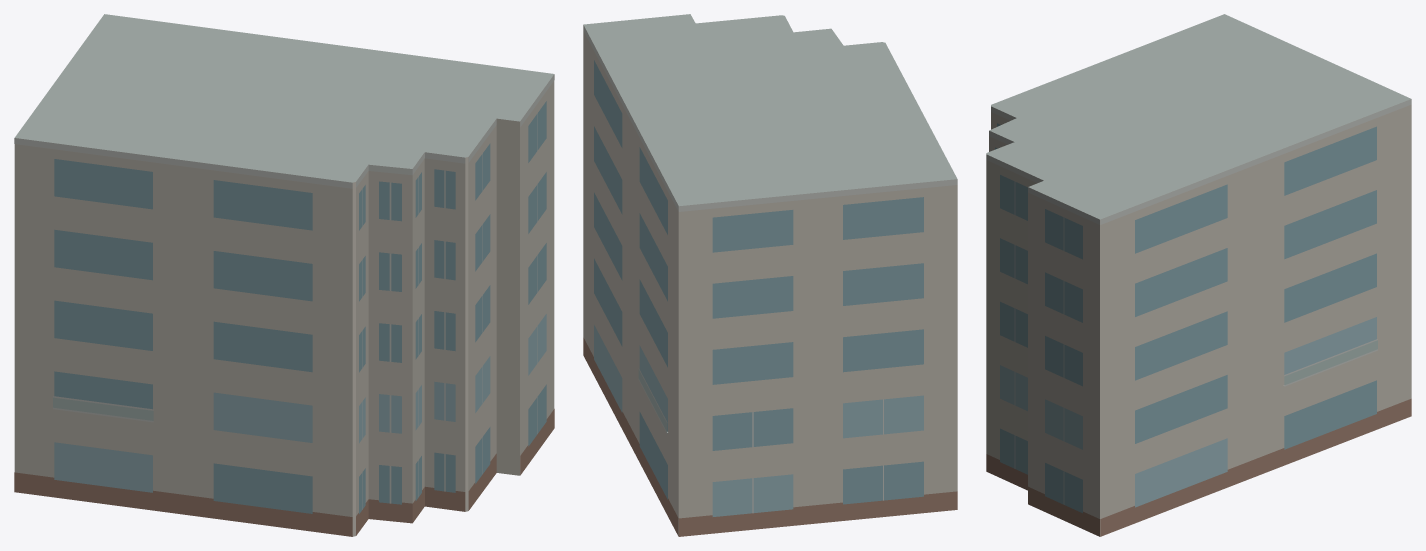
Rendered from survey-upis-32813543.glb.
3 renders of one model, left to right at view 1: azimuth 30°, elevation 25°; view 2: azimuth 150°, elevation 25°; view 3: azimuth 270°, elevation 25°, orthographic. The views are drawn at different scales.
Visible parts, largest first — view 1: survey-upis-32813543.tmp; view 2: survey-upis-32813543.tmp; view 3: survey-upis-32813543.tmp.
Boxes of the visible parts, box(x1,y1,x2,y2) form: survey-upis-32813543.tmp: box(14, 14, 554, 536); survey-upis-32813543.tmp: box(583, 14, 957, 536); survey-upis-32813543.tmp: box(986, 14, 1411, 536).
Bounding box in the file's own units: 19.33 × 13.9 × 16.9.
